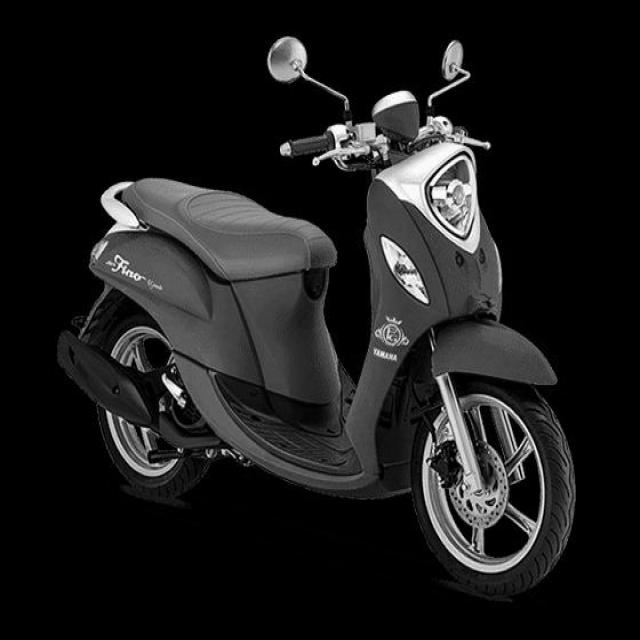Motorcycle: (57, 42, 577, 599)
